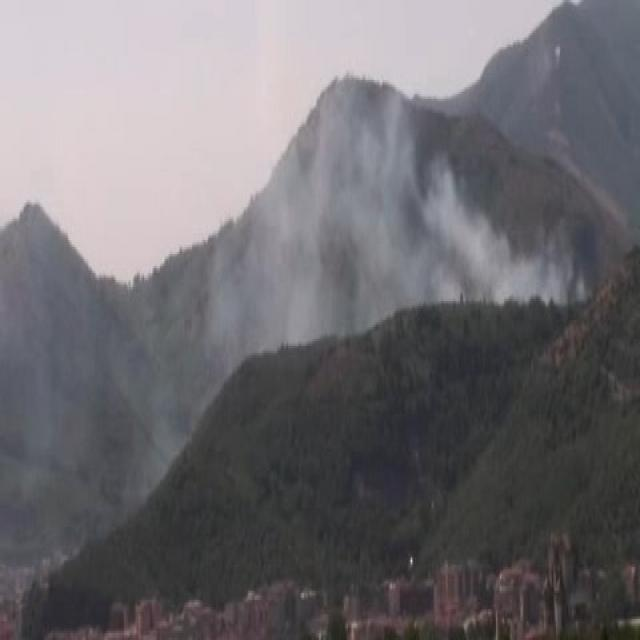smoke: (314, 101, 499, 306)
